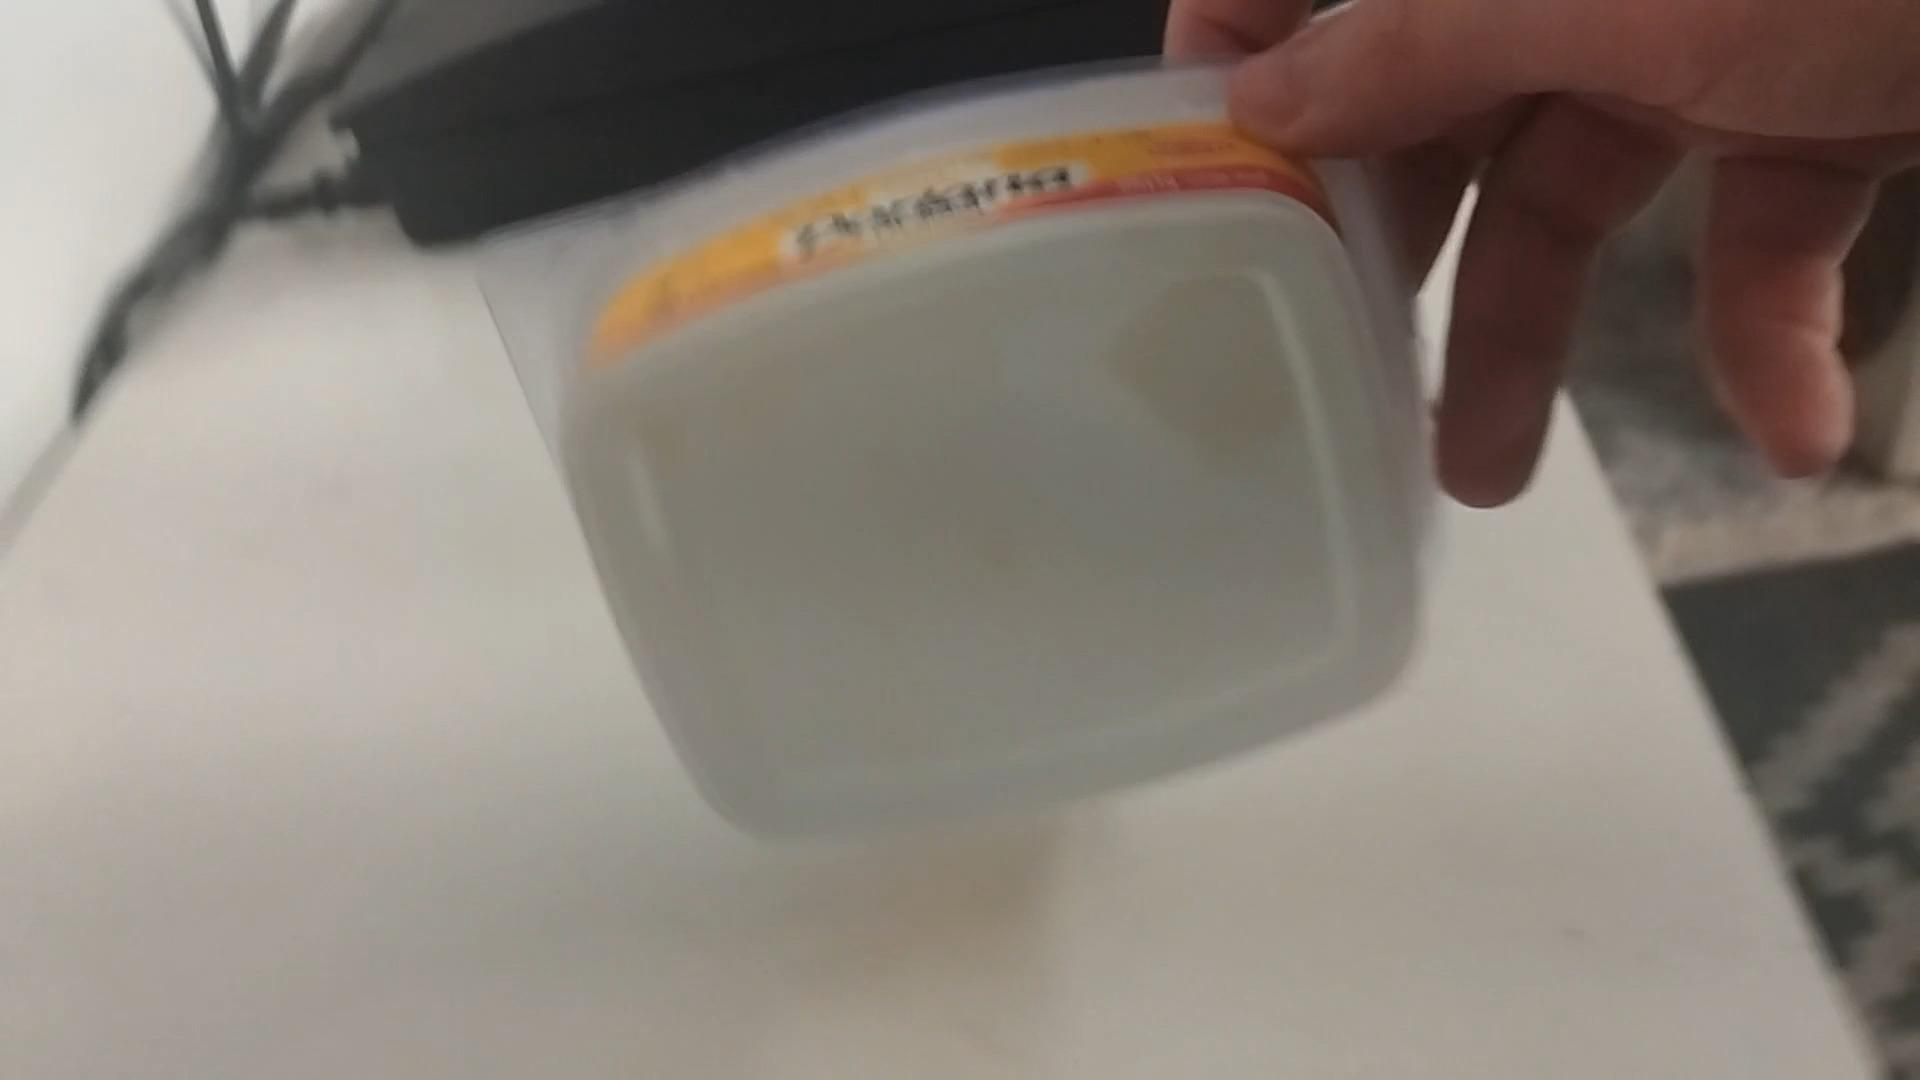butter: (481, 61, 1439, 855)
